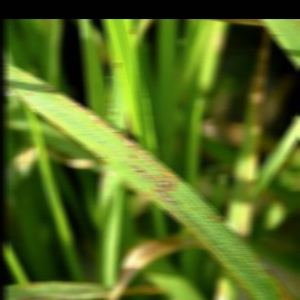Brown_Spot: (144, 181, 176, 210), (120, 161, 146, 183), (160, 168, 179, 191)
